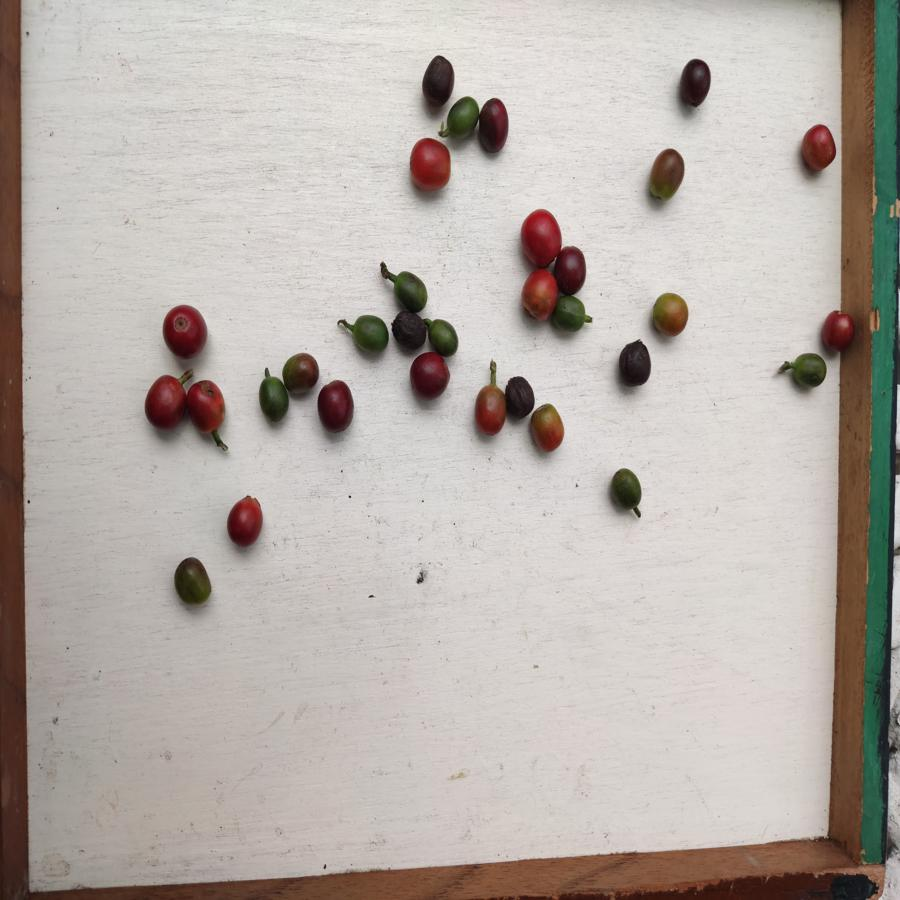Inmaduro: (349, 312, 390, 356), (256, 375, 289, 424), (790, 352, 828, 393), (447, 94, 479, 142), (609, 468, 644, 511), (392, 269, 428, 309), (553, 296, 588, 333), (428, 316, 458, 356)
Maduro: (160, 303, 209, 360), (142, 374, 189, 432), (409, 136, 452, 191), (521, 208, 560, 267), (188, 379, 226, 436), (226, 496, 263, 547), (801, 123, 838, 174), (521, 268, 555, 319), (821, 309, 858, 353)
Pinton: (169, 553, 215, 612), (647, 148, 687, 202), (529, 403, 567, 453), (651, 292, 688, 336), (282, 353, 320, 394), (477, 385, 506, 436)
Sobremaduro: (318, 376, 357, 431), (410, 352, 452, 399), (479, 97, 510, 153), (617, 339, 653, 387), (557, 245, 590, 295), (422, 55, 454, 106), (680, 59, 713, 107), (392, 309, 426, 351), (503, 377, 533, 417)
